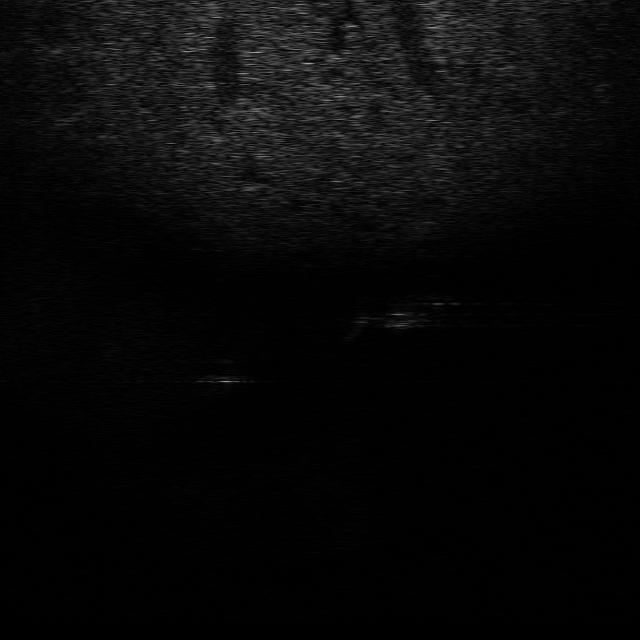ball: (198, 354, 258, 390)
human body: (344, 294, 445, 340)
